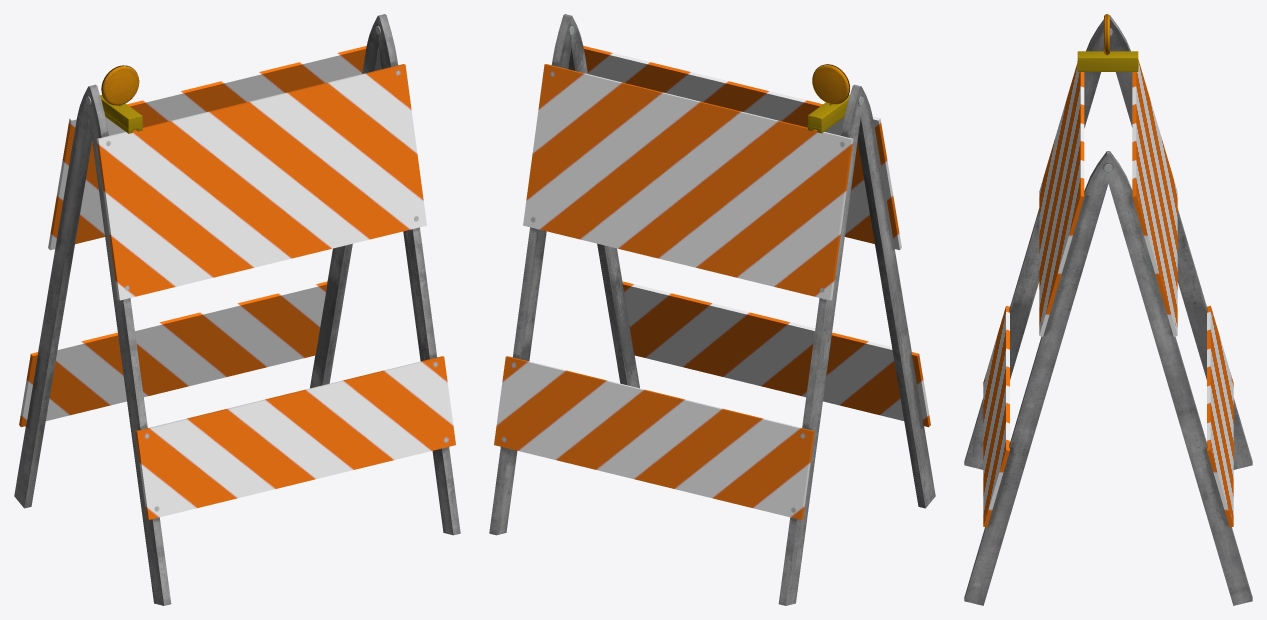
The model's file is Road_Barrier_01.dae.
3 views of the same model, side by side, from view 1: azimuth 30°, elevation 25°; view 2: azimuth 150°, elevation 25°; view 3: azimuth 270°, elevation 25° (orthographic). The views are drawn at different scales.
Parts seen in each view (by area): view 1: SM_Road_Barrier_01; view 2: SM_Road_Barrier_01; view 3: SM_Road_Barrier_01.
Boxes of the visible parts, <box> form: SM_Road_Barrier_01: <box>14,14,460,605</box>; SM_Road_Barrier_01: <box>489,14,935,605</box>; SM_Road_Barrier_01: <box>964,14,1252,605</box>.
Size of the model in its own units: 0.8489 by 0.7178 by 1.28.
Materials: 1 (1 with a texture image).
